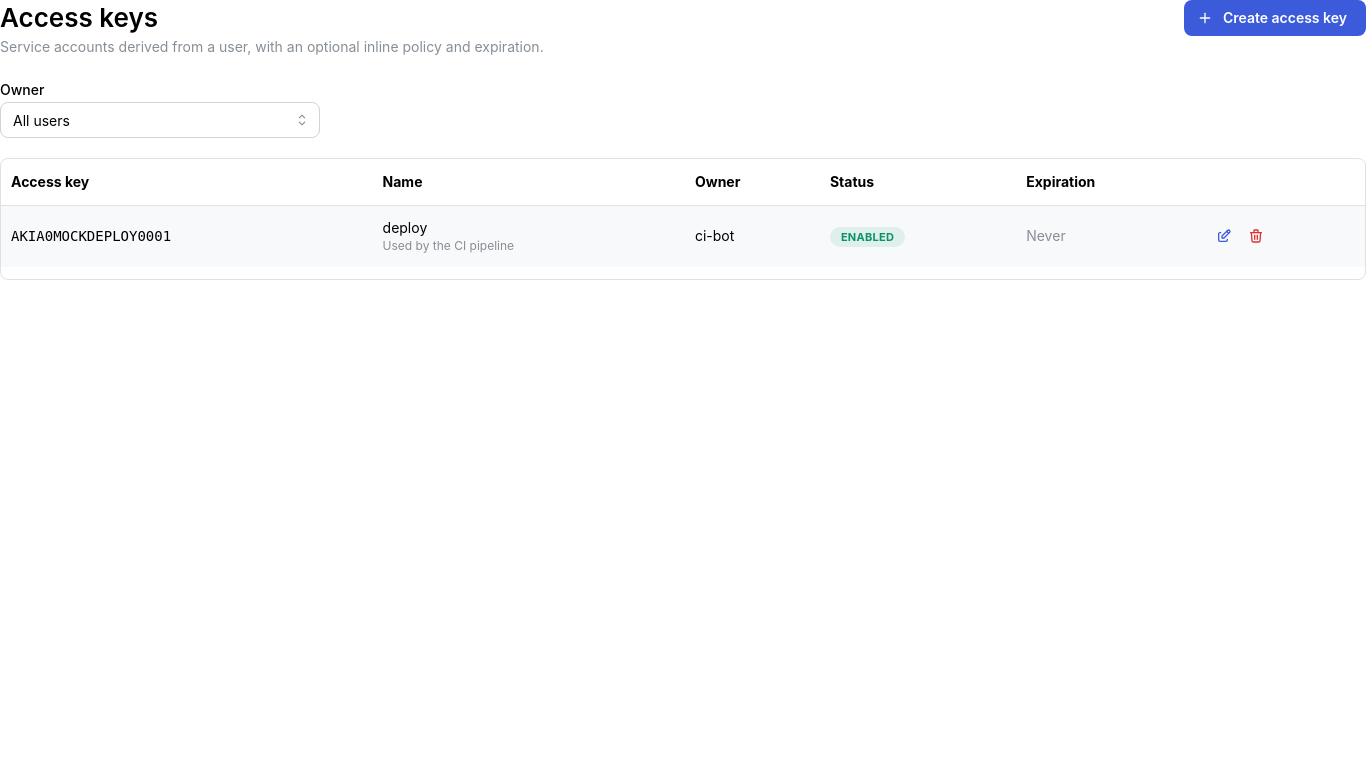
Test: Access keys (D-IAM-04) › edits the status and deletes a key
Click the button named "Edit AKIA0MOCKDEPLOY0001" at {"x": 1224, "y": 236}, box x1=1210 y1=222 x2=1238 y2=250
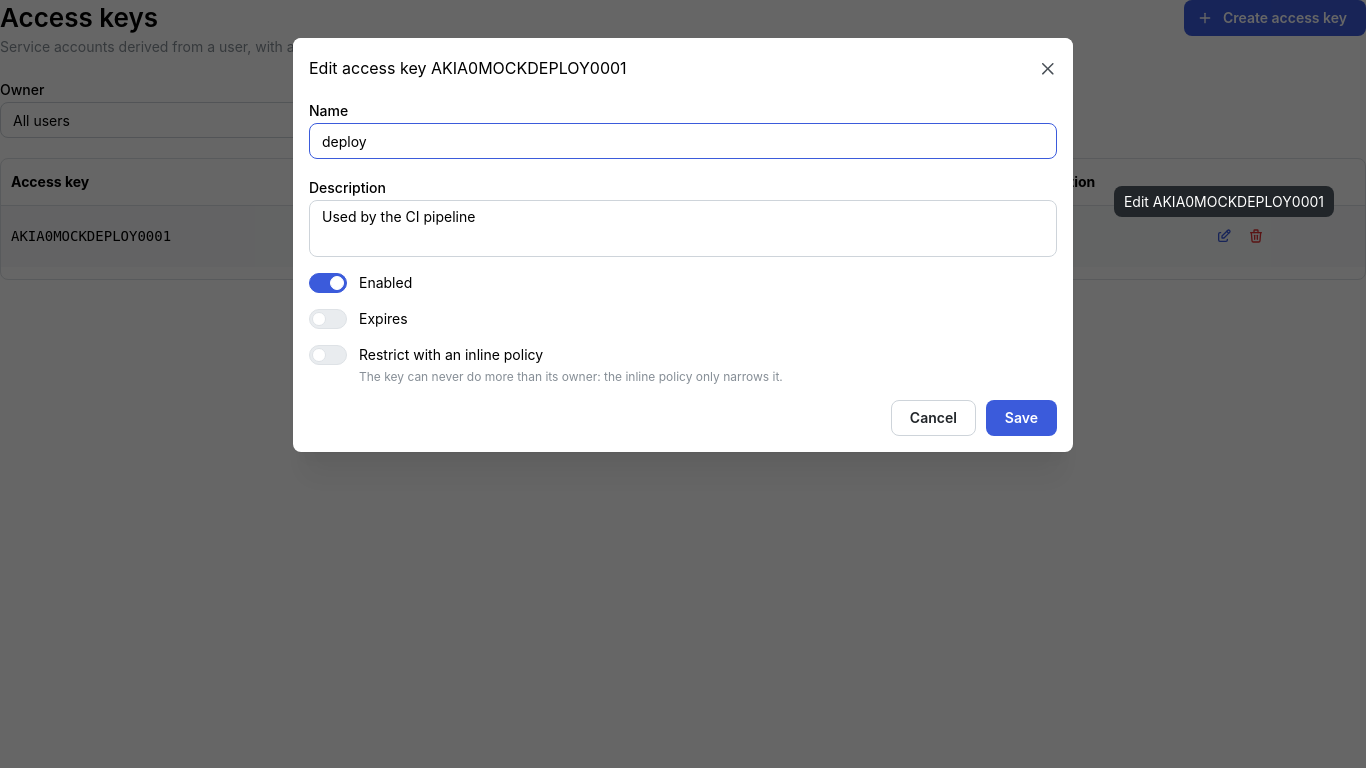
Click the switch labelled "Enabled" at {"x": 361, "y": 283}, box x1=309 y1=273 x2=412 y2=293
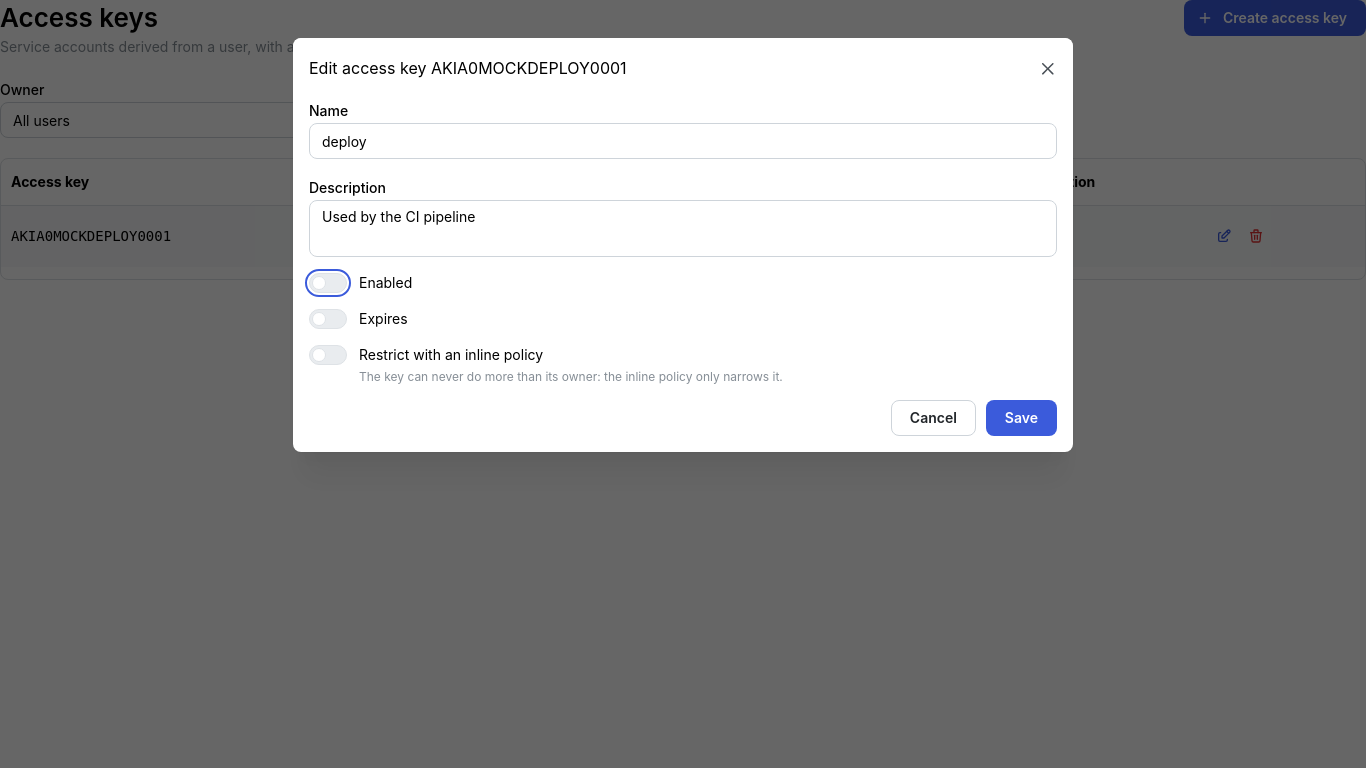
Click the button "Save" at {"x": 1021, "y": 418}, box x1=986 y1=400 x2=1057 y2=436
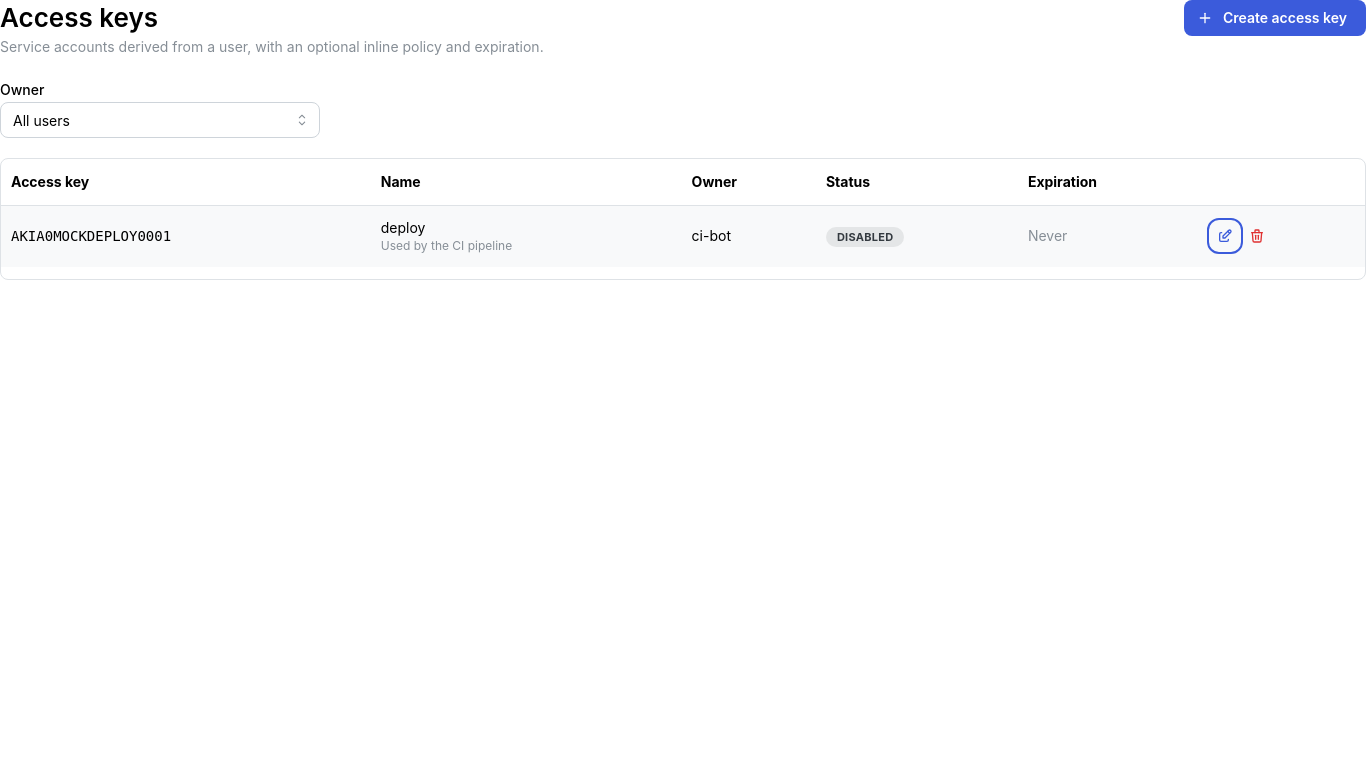
Click the button named "Delete AKIA0MOCKDEPLOY0001" at {"x": 1257, "y": 236}, box x1=1243 y1=222 x2=1271 y2=250
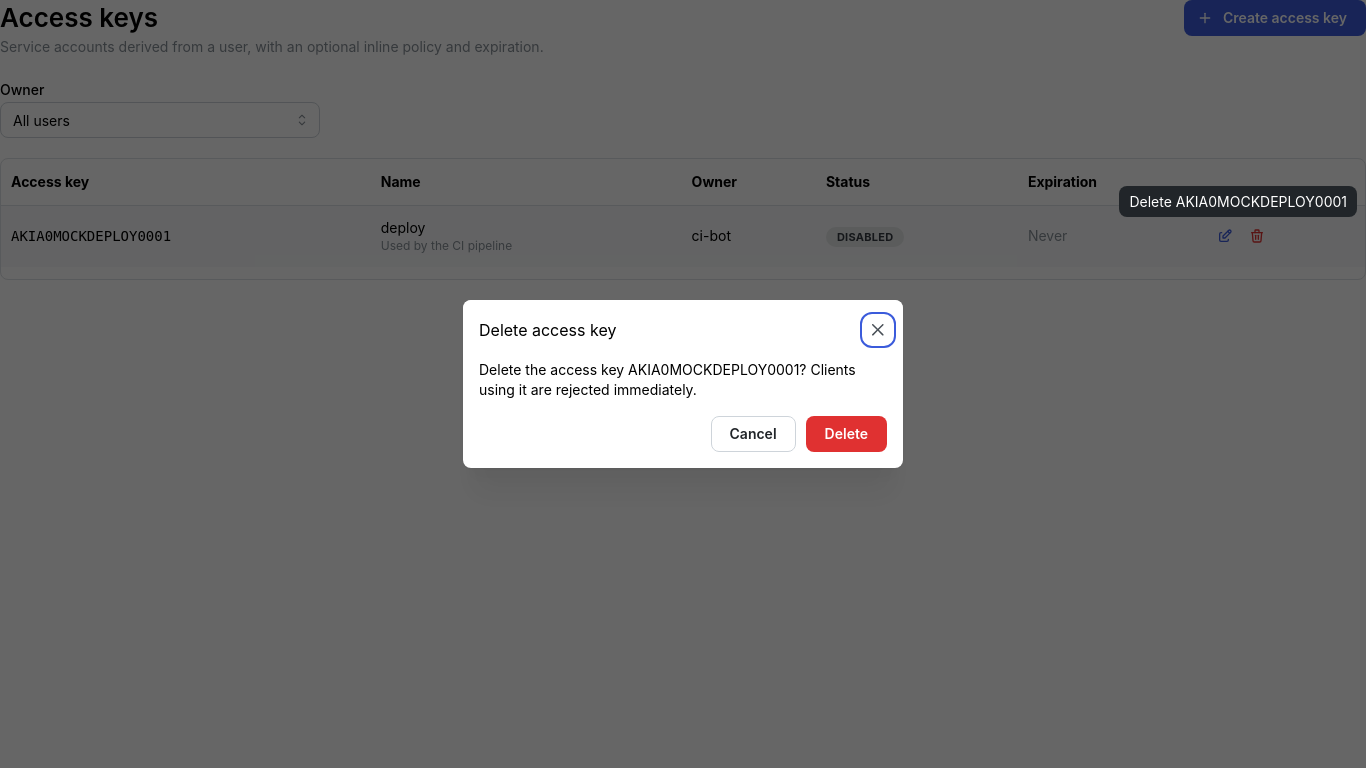
Click the button "Delete" at {"x": 846, "y": 434}, box x1=806 y1=416 x2=887 y2=452
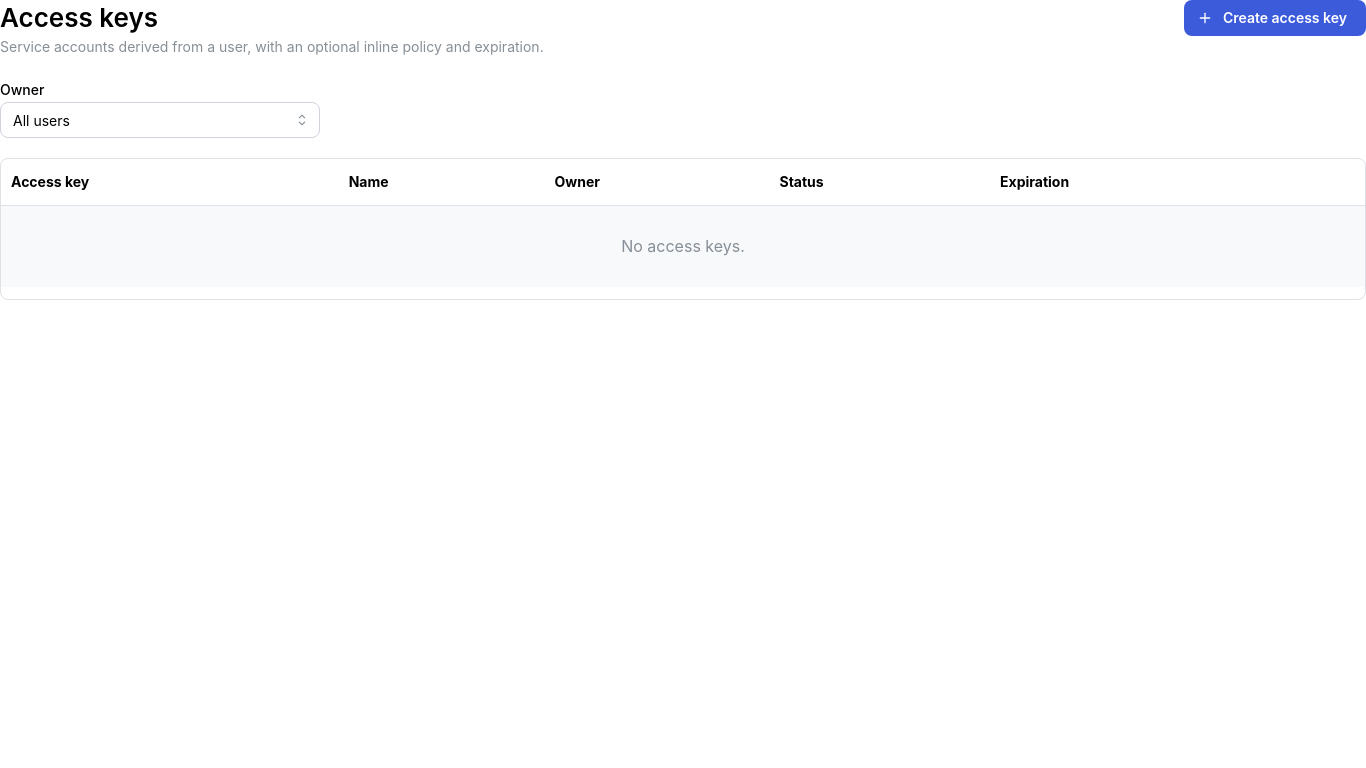
Expected: the text "AKIA0MOCKDEPLOY0001" is gone
